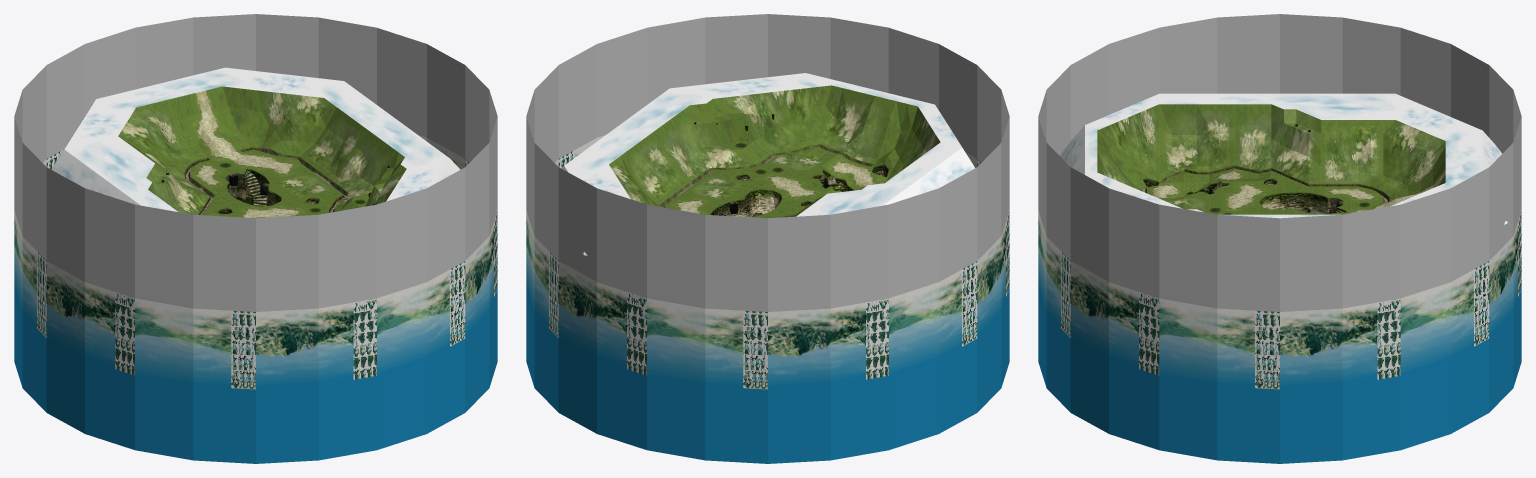
Rendered from level729.dae.
3 views of the same model, side by side, from view 1: azimuth 30°, elevation 25°; view 2: azimuth 150°, elevation 25°; view 3: azimuth 270°, elevation 25° (orthographic).
Parts seen in each view (by area): view 1: node102_8010_67 (×3), node87_0010_62 (×7), node77_0010_56, node86_0000_61; view 2: node102_8010_67 (×3), node87_0010_62 (×6), node77_0010_56, node86_0000_61; view 3: node102_8010_67 (×3), node87_0010_62 (×7), node77_0010_56, node86_0000_61.
Part boxes in pixels (x1,y1,x2,y2): node102_8010_67 (×3): [14, 14, 497, 463]; node87_0010_62 (×7): [51, 67, 460, 217]; node77_0010_56: [227, 168, 281, 206]; node86_0000_61: [184, 147, 348, 214]; node102_8010_67 (×3): [526, 14, 1009, 463]; node87_0010_62 (×6): [561, 73, 974, 255]; node77_0010_56: [710, 189, 781, 217]; node86_0000_61: [659, 144, 886, 206]; node102_8010_67 (×3): [1038, 14, 1521, 463]; node87_0010_62 (×7): [1060, 93, 1507, 224]; node77_0010_56: [1259, 191, 1346, 213]; node86_0000_61: [1141, 165, 1389, 202].
Size of the model in its own units: 5598 by 3140 by 5598.
Materials: 36 (35 with a texture image).
